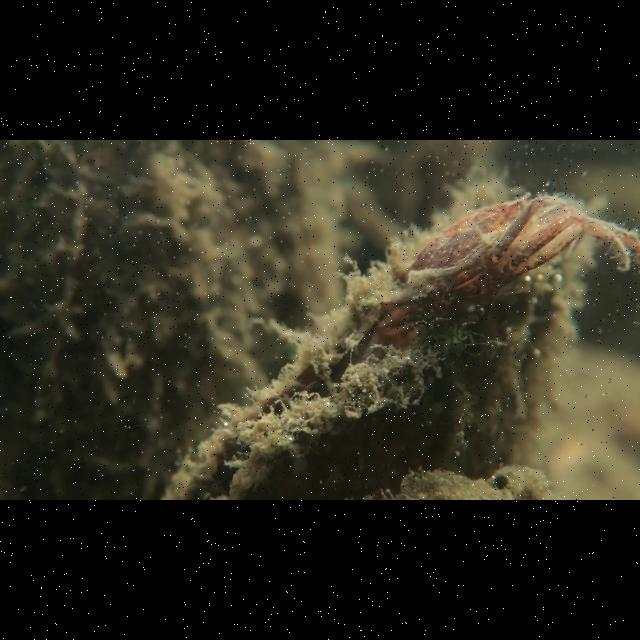Oyster-Open: (158, 198, 610, 497)
